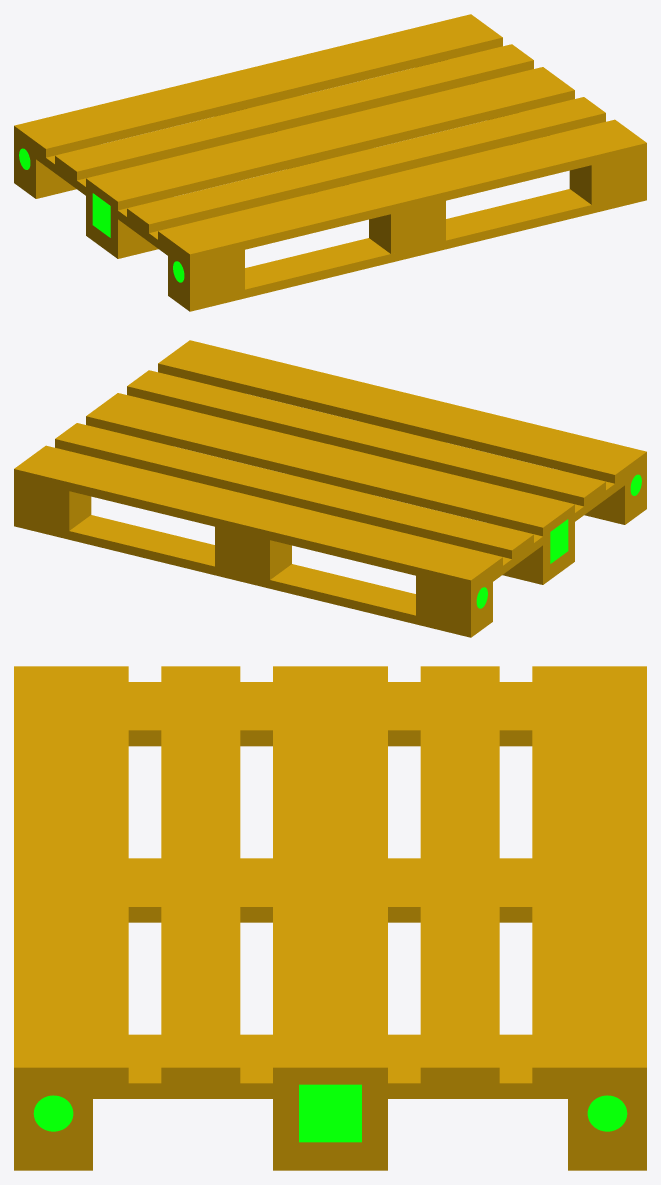
File: pallet.dae
3 views of the same model, one above another, from view 1: azimuth 30°, elevation 25°; view 2: azimuth 150°, elevation 25°; view 3: azimuth 270°, elevation 25° (orthographic). The views are drawn at different scales.
Visible parts, largest first — view 1: Shape_IndexedFaceSet.013, Shape_IndexedFaceSet.014, Shape_IndexedFaceSet.015, Shape_IndexedFaceSet.012, Shape_IndexedFaceSet.016, Shape_IndexedFaceSet.024, Shape_IndexedFaceSet.010, Shape_IndexedFaceSet.017, Shape_IndexedFaceSet.009, Shape_IndexedFaceSet.006, Shape_IndexedFaceSet.018, Shape_IndexedFaceSet.022 (+5 smaller); view 2: Shape_IndexedFaceSet.015, Shape_IndexedFaceSet.014, Shape_IndexedFaceSet.013, Shape_IndexedFaceSet.016, Shape_IndexedFaceSet.012, Shape_IndexedFaceSet.023, Shape_IndexedFaceSet.020, Shape_IndexedFaceSet.021, Shape_IndexedFaceSet.022, Shape_IndexedFaceSet.006, Shape_IndexedFaceSet.018, Shape_IndexedFaceSet.009 (+5 smaller); view 3: Shape_IndexedFaceSet.015, Shape_IndexedFaceSet.014, Shape_IndexedFaceSet.013, Shape_IndexedFaceSet.016, Shape_IndexedFaceSet.012, Shape_IndexedFaceSet.007, Shape_IndexedFaceSet.008, Shape_IndexedFaceSet.006, Shape_IndexedFaceSet.019, Shape_IndexedFaceSet.005, Shape_IndexedFaceSet.020, Shape_IndexedFaceSet.010 (+5 smaller).
Part boxes in pixels (<box>): Shape_IndexedFaceSet.013: <box>14,14,502,157</box>; Shape_IndexedFaceSet.014: <box>86,67,574,210</box>; Shape_IndexedFaceSet.015: <box>158,119,646,262</box>; Shape_IndexedFaceSet.012: <box>55,44,533,180</box>; Shape_IndexedFaceSet.016: <box>127,97,605,232</box>; Shape_IndexedFaceSet.024: <box>168,189,646,311</box>; Shape_IndexedFaceSet.010: <box>569,160,646,204</box>; Shape_IndexedFaceSet.017: <box>369,209,445,253</box>; Shape_IndexedFaceSet.009: <box>168,256,244,302</box>; Shape_IndexedFaceSet.006: <box>14,134,244,271</box>; Shape_IndexedFaceSet.018: <box>86,196,149,250</box>; Shape_IndexedFaceSet.022: <box>14,143,67,190</box>; Shape_IndexedFaceSet.015: <box>158,340,646,483</box>; Shape_IndexedFaceSet.014: <box>86,393,574,536</box>; Shape_IndexedFaceSet.013: <box>14,445,502,588</box>; Shape_IndexedFaceSet.016: <box>127,370,605,506</box>; Shape_IndexedFaceSet.012: <box>55,423,533,558</box>; Shape_IndexedFaceSet.023: <box>14,515,492,637</box>; Shape_IndexedFaceSet.020: <box>14,486,91,530</box>; Shape_IndexedFaceSet.021: <box>215,535,291,579</box>; Shape_IndexedFaceSet.022: <box>416,582,492,628</box>; Shape_IndexedFaceSet.006: <box>416,460,646,597</box>; Shape_IndexedFaceSet.018: <box>511,522,574,576</box>; Shape_IndexedFaceSet.009: <box>593,469,646,516</box>; Shape_IndexedFaceSet.015: <box>14,666,128,1083</box>; Shape_IndexedFaceSet.014: <box>273,666,387,1083</box>; Shape_IndexedFaceSet.013: <box>532,666,646,1083</box>; Shape_IndexedFaceSet.016: <box>161,666,240,1083</box>; Shape_IndexedFaceSet.012: <box>420,666,499,1083</box>; Shape_IndexedFaceSet.007: <box>14,1034,646,1098</box>; Shape_IndexedFaceSet.008: <box>128,858,532,922</box>; Shape_IndexedFaceSet.006: <box>128,682,532,746</box>; Shape_IndexedFaceSet.019: <box>273,1099,387,1154</box>; Shape_IndexedFaceSet.005: <box>299,1084,361,1142</box>; Shape_IndexedFaceSet.020: <box>568,1099,646,1154</box>; Shape_IndexedFaceSet.010: <box>14,1099,92,1154</box>.
Bounding box in the file's own units: 1.2 × 0.8 × 0.144.
